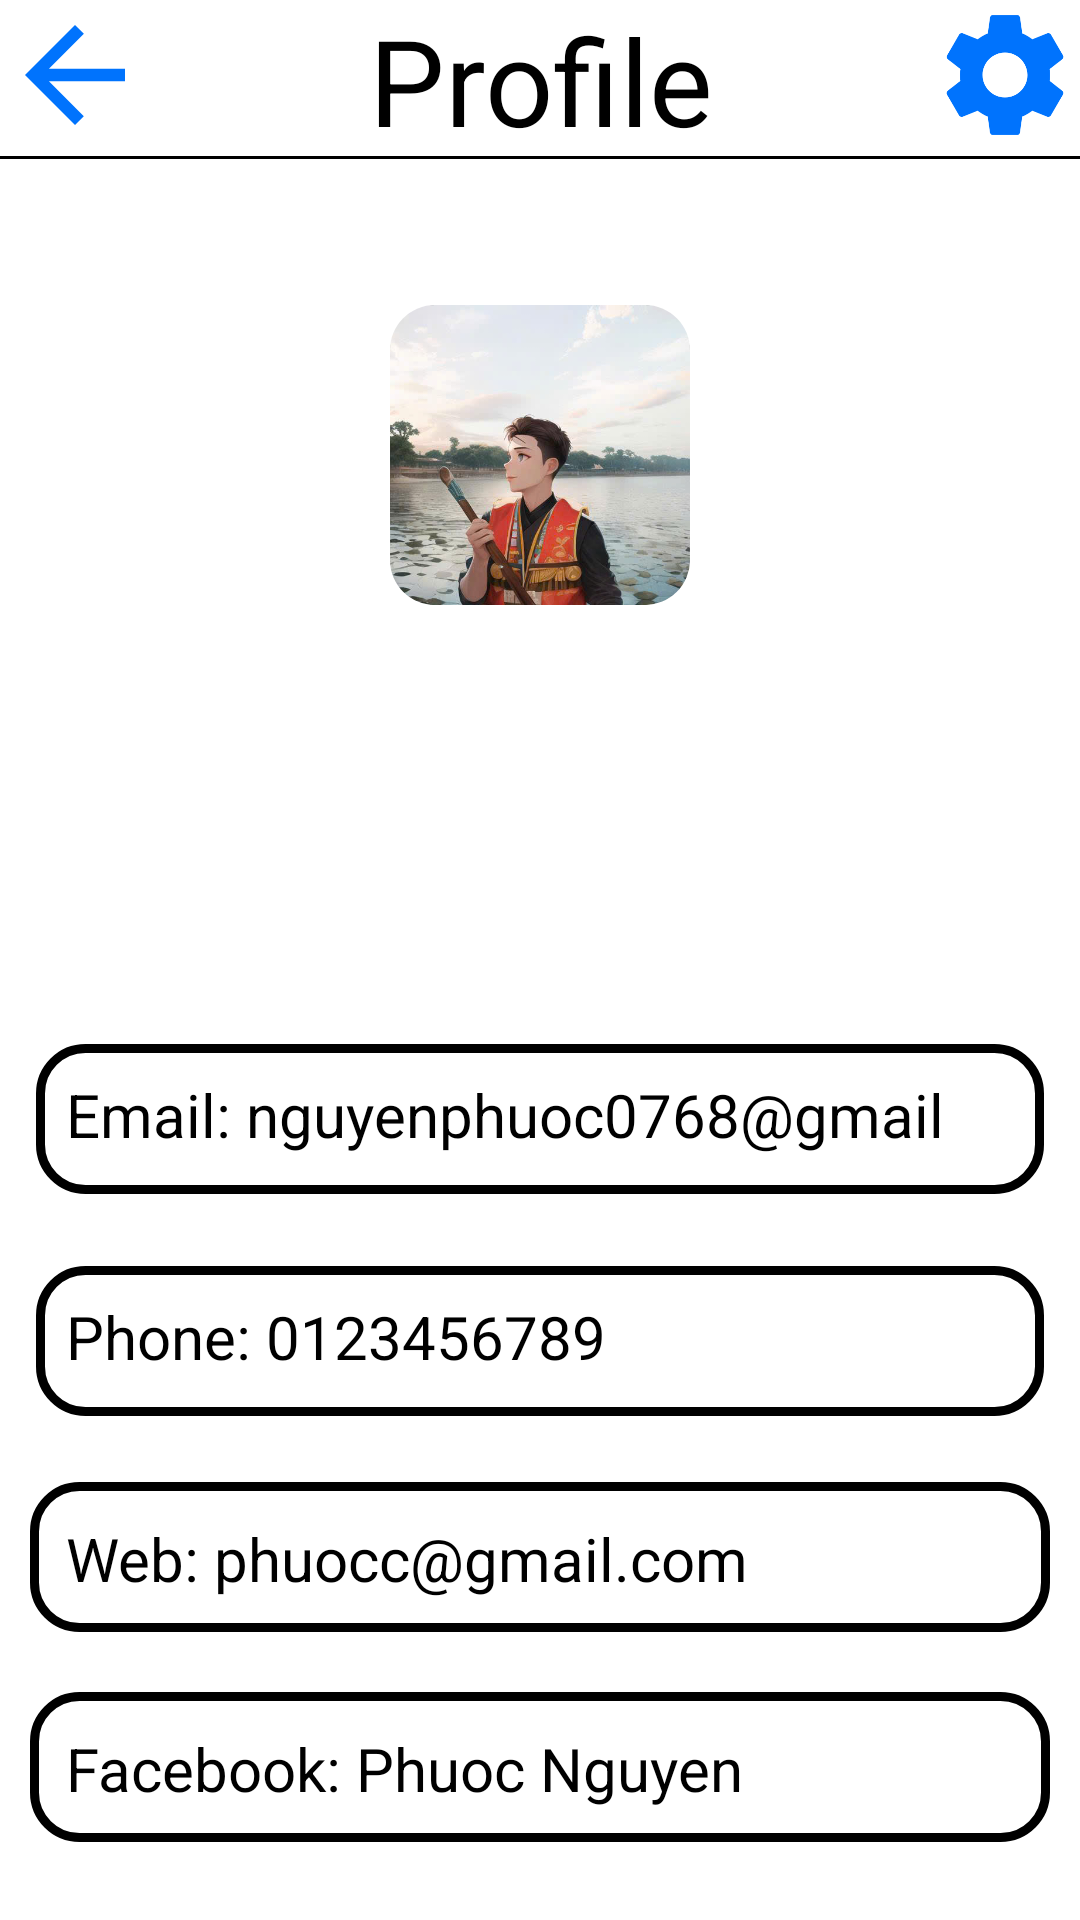

Point at icon controls on the screen. Image size 1080 x 1920, points as (x=x, y=y).
back: (x=75, y=75)
setting: (x=1005, y=75)
